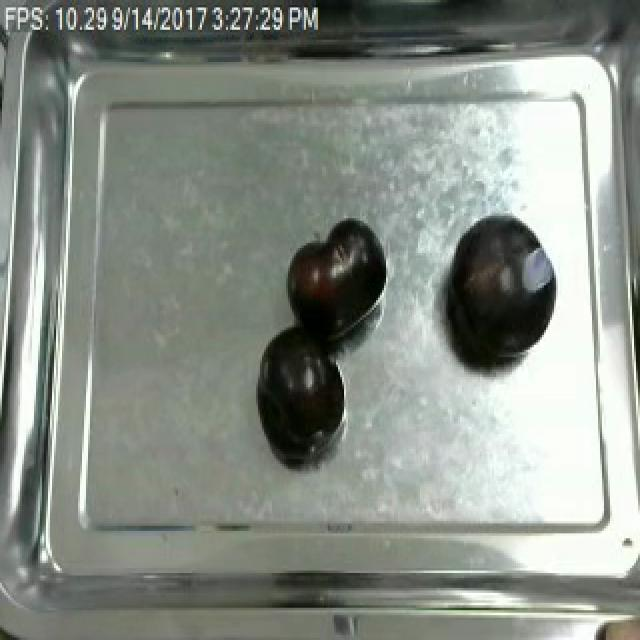Fruit: (442, 208, 560, 370), (282, 224, 388, 342), (252, 320, 338, 454), (586, 608, 640, 640)
